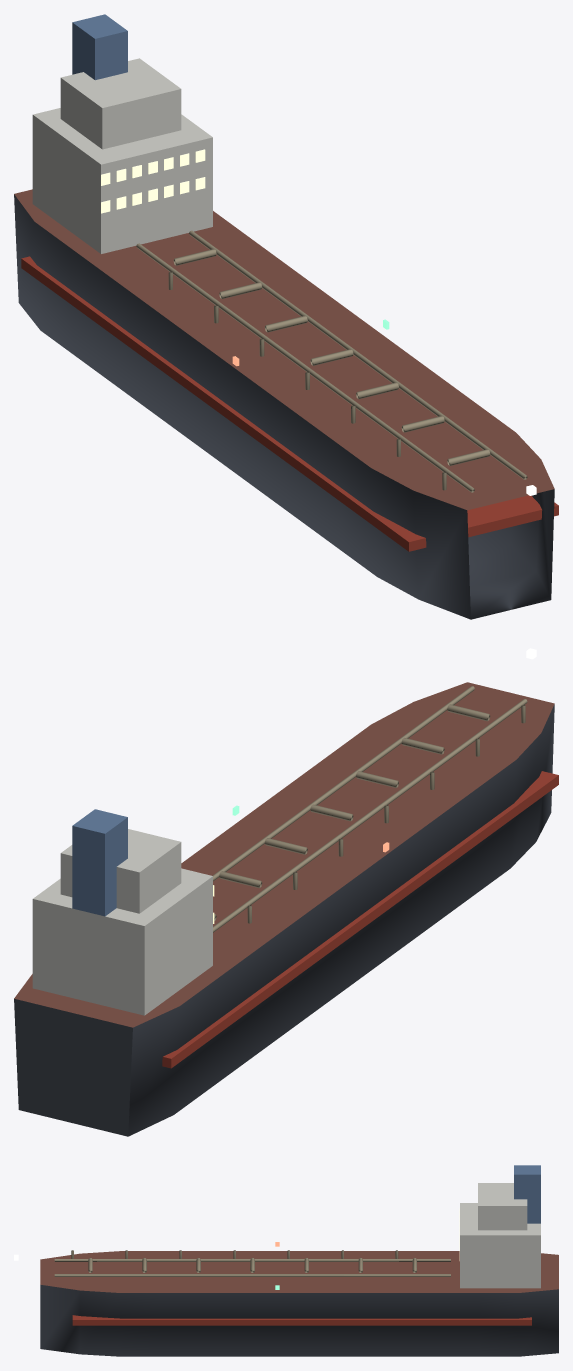
Rendered from tanker.glb.
3 views of the same model, one above another, from view 1: azimuth 30°, elevation 25°; view 2: azimuth 150°, elevation 25°; view 3: azimuth 270°, elevation 25° (orthographic). The views are drawn at different scales.
Parts seen in each view (by area): view 1: Tanker; view 2: Tanker; view 3: Tanker.
Part boxes in pixels (x1,y1,x2,y2): Tanker: [14, 14, 558, 619]; Tanker: [14, 648, 558, 1136]; Tanker: [14, 1165, 558, 1356].
Bounding box in the file's own units: 23.2 × 41 × 121.
